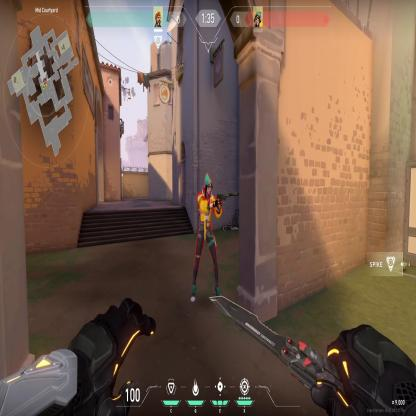enemy: (188, 172, 222, 304)
